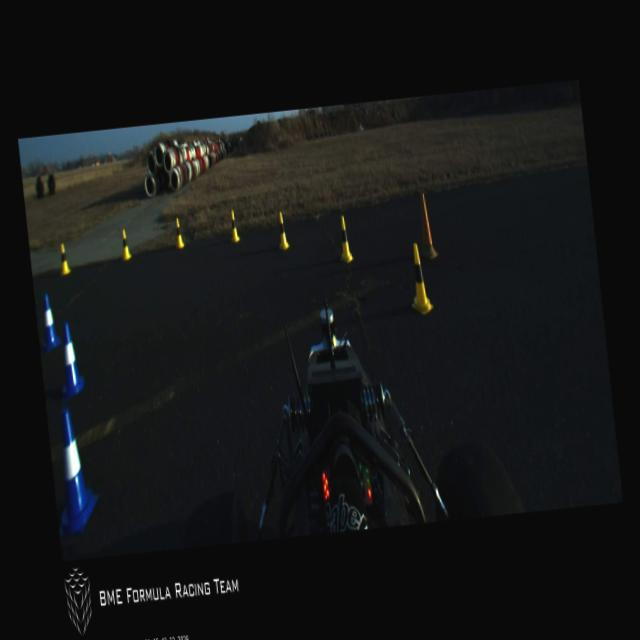blue_cone: (47, 406, 102, 534), (54, 322, 85, 396), (36, 294, 60, 351)
yellow_cone: (405, 242, 433, 316), (336, 215, 354, 263), (275, 211, 289, 250), (228, 209, 240, 242), (58, 243, 70, 275), (119, 228, 131, 260), (173, 218, 184, 248)
